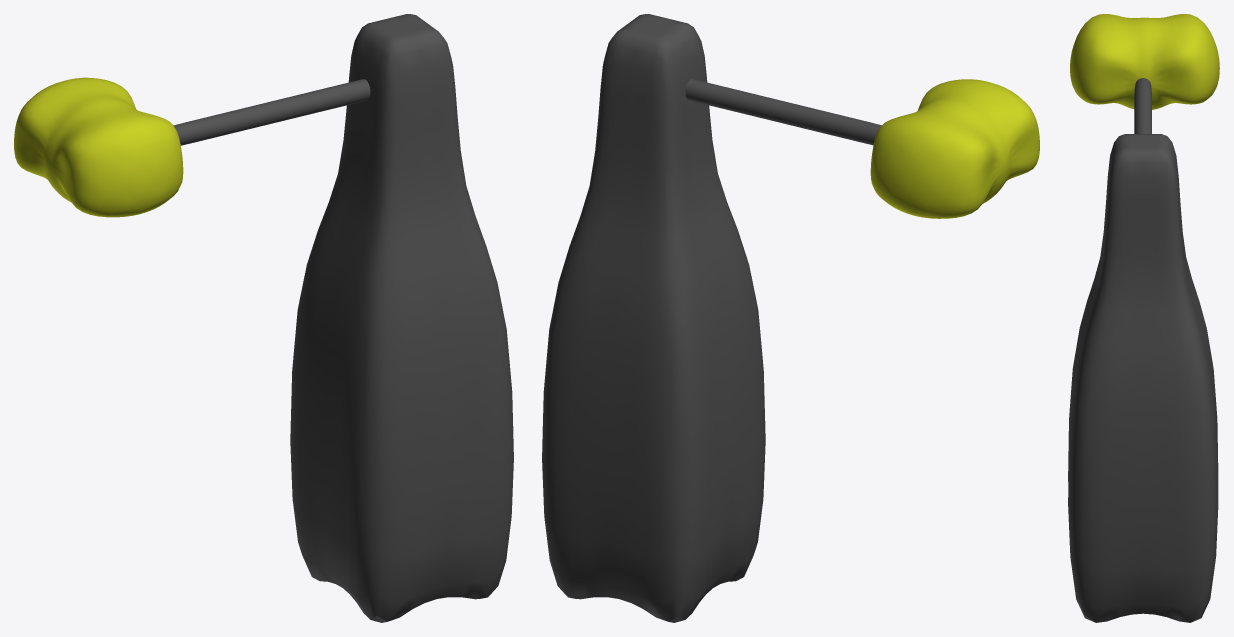
The model's file is Lights 4.fbx.
The picture shows the model from 3 angles, left to right: view 1: azimuth 30°, elevation 25°; view 2: azimuth 150°, elevation 25°; view 3: azimuth 270°, elevation 25°; orthographic projection. The views are drawn at different scales.
Visible parts, largest first — view 1: Cube, Sphere, Cylinder; view 2: Cube, Sphere, Cylinder; view 3: Cube, Sphere, Cylinder.
Boxes of the visible parts, x1,y1,x2,y2 form: Cube: (290,14,513,622); Sphere: (14,77,183,217); Cylinder: (173,79,370,145); Cube: (542,14,765,622); Sphere: (870,79,1039,218); Cylinder: (685,79,881,145); Cube: (1068,134,1218,622); Sphere: (1070,14,1219,109); Cylinder: (1134,78,1151,133).
Bounding box in the file's own units: 310 × 383 × 114.
